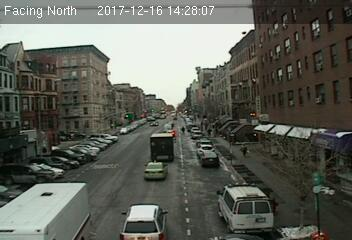car: (117, 202, 169, 240), (142, 162, 167, 179)
police: (215, 179, 275, 231)
ups: (148, 132, 176, 163)
